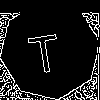T: (25, 25, 62, 75)
